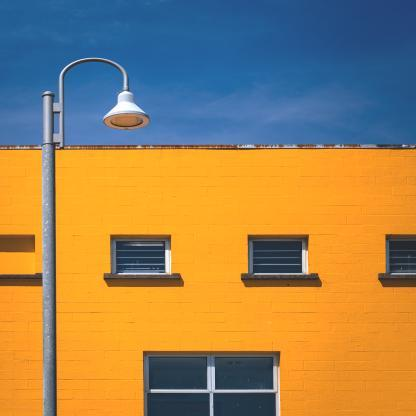light_pole: (41, 57, 151, 416)
